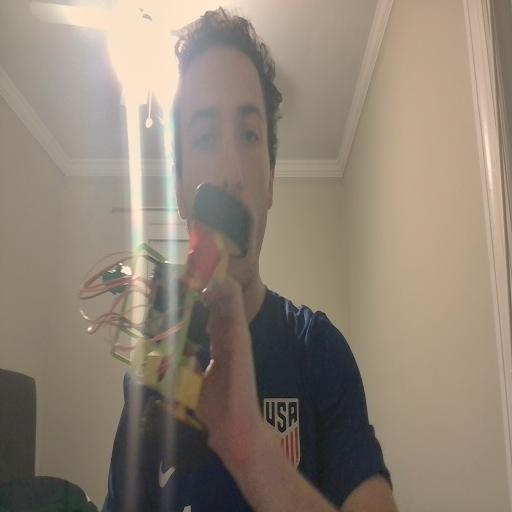green LEGO minifig: (100, 265, 133, 297)
